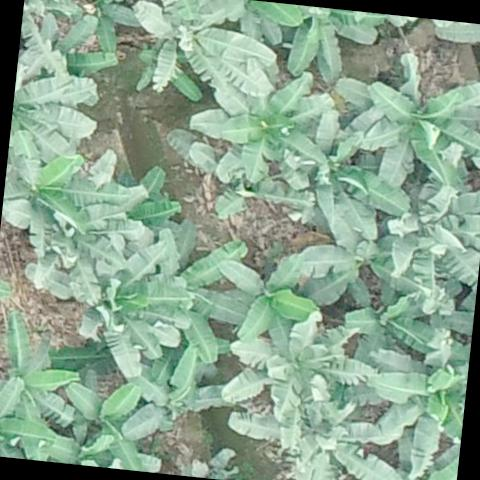Banana-plant: (328, 49, 480, 203), (184, 58, 339, 189), (216, 310, 376, 430), (358, 330, 471, 480), (37, 146, 147, 300), (78, 243, 194, 385), (298, 193, 429, 316), (124, 0, 276, 104), (220, 399, 410, 480), (5, 40, 104, 192), (155, 220, 255, 366), (0, 305, 86, 463), (276, 146, 414, 241), (387, 169, 480, 302), (122, 343, 236, 451), (220, 237, 323, 354), (0, 133, 89, 259), (253, 1, 380, 85), (59, 378, 147, 470), (53, 0, 145, 56), (0, 378, 59, 461)
